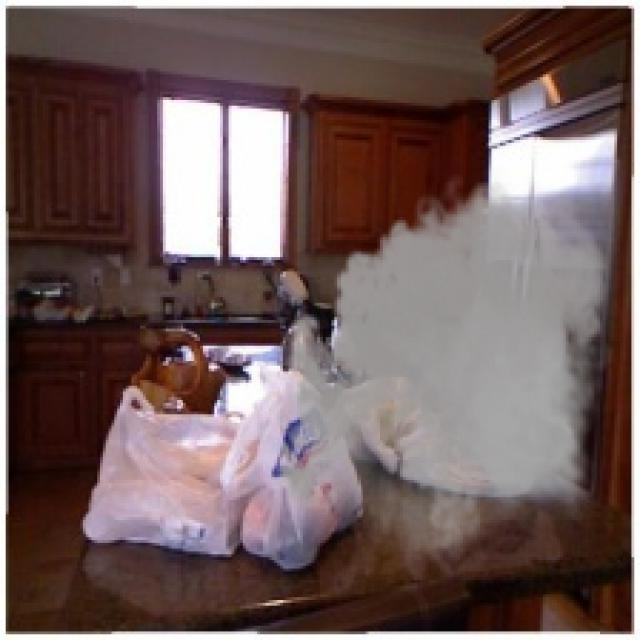smoke: (266, 166, 620, 574)
